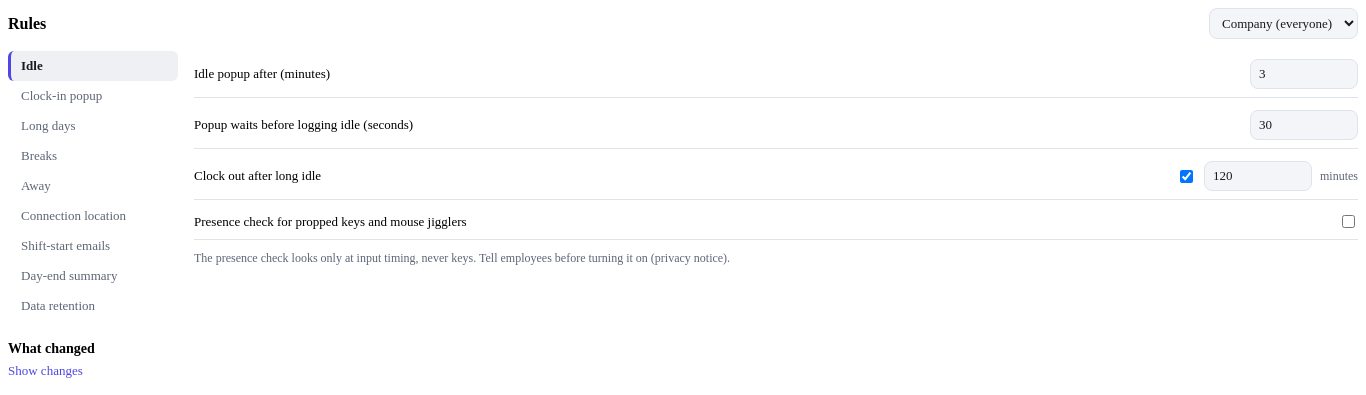
Test case: Rules (ADR-0038 §8) › one section at a time; company-only sections only company-wide
Check: the number field named "idle-prompt" holds "3", box [1250,59,1358,89]
Click the button "Long days" at (93, 126), box [8,111,178,141]
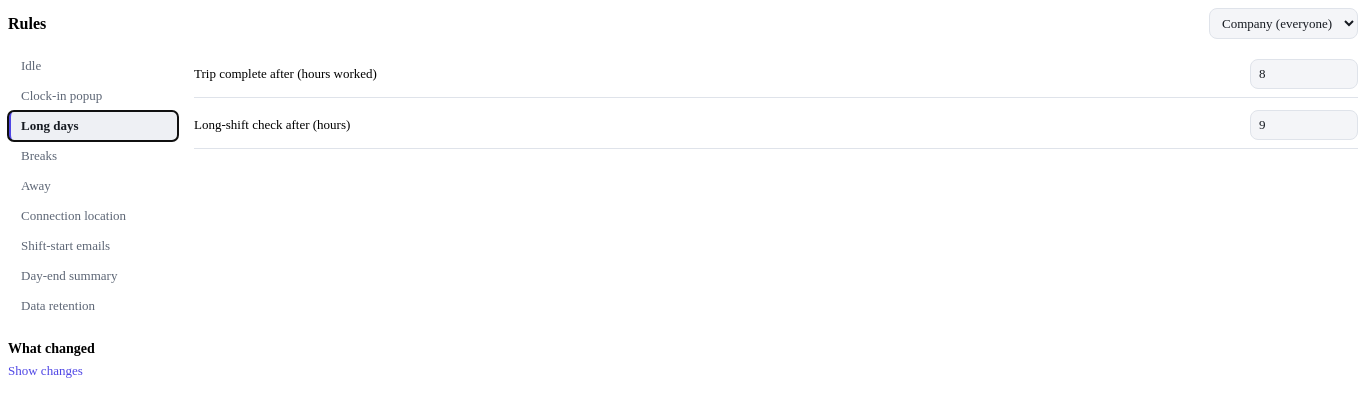
Check: the number field named "long-day" holds "8", box [1250,59,1358,89]
Select "Department: Sales" in the dropdown named "scope" at (1284, 24), box [1209,8,1358,39]
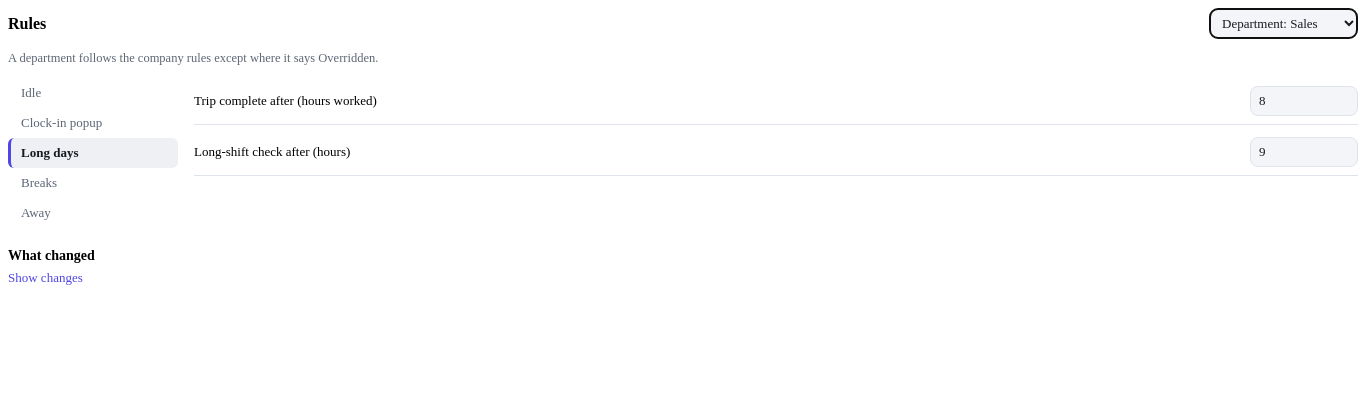
Check: the text "follows the company rules" is shown, box [8,51,378,65]
Check: the button "Connection location" is gone
